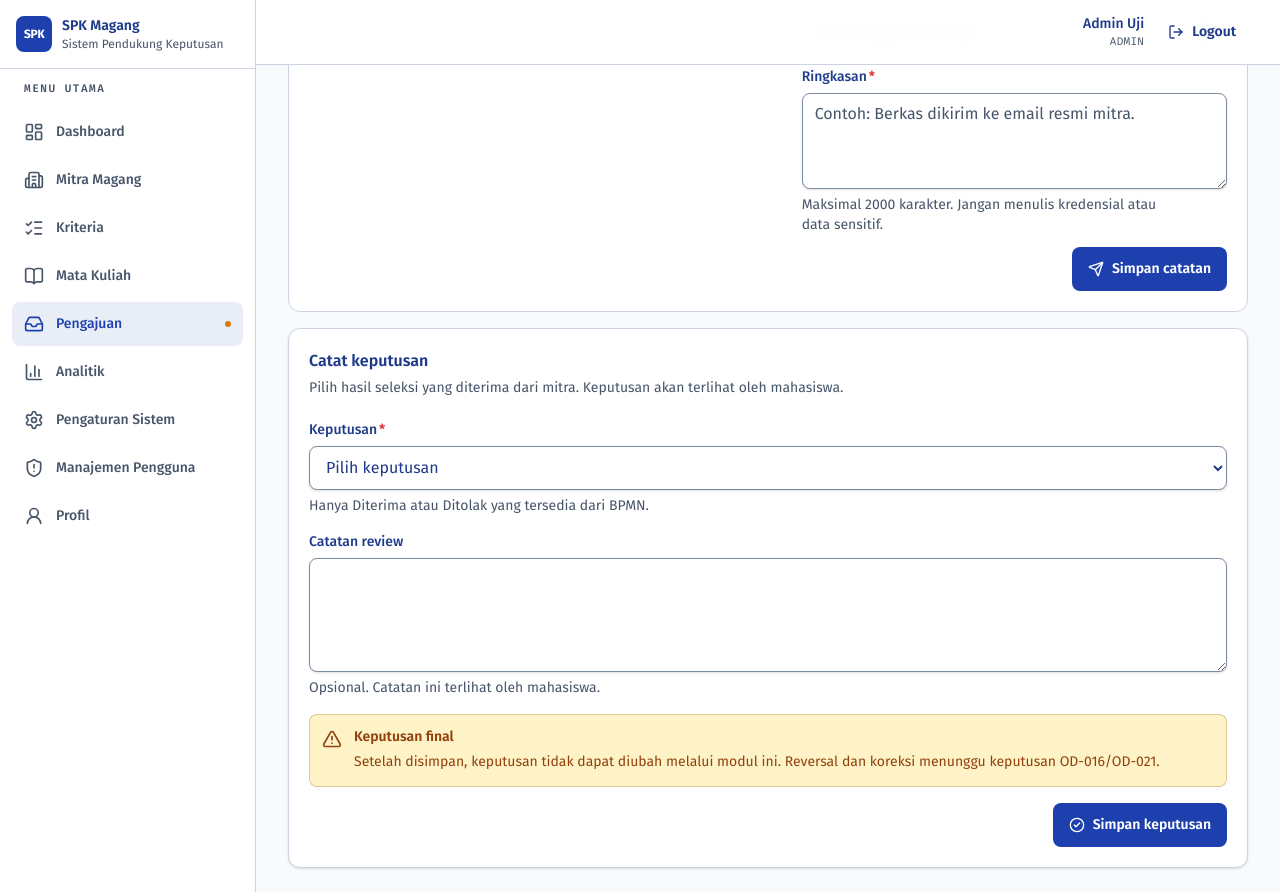
it: AdminApplicationDetailPage › menolak keputusan kosong sebelum memanggil API
(page scrolled)
Expected: the heading "Catat keputusan" is shown, [309,351,428,370]
Click the button "Simpan keputusan": [1140, 824] box [1053,802,1227,846]
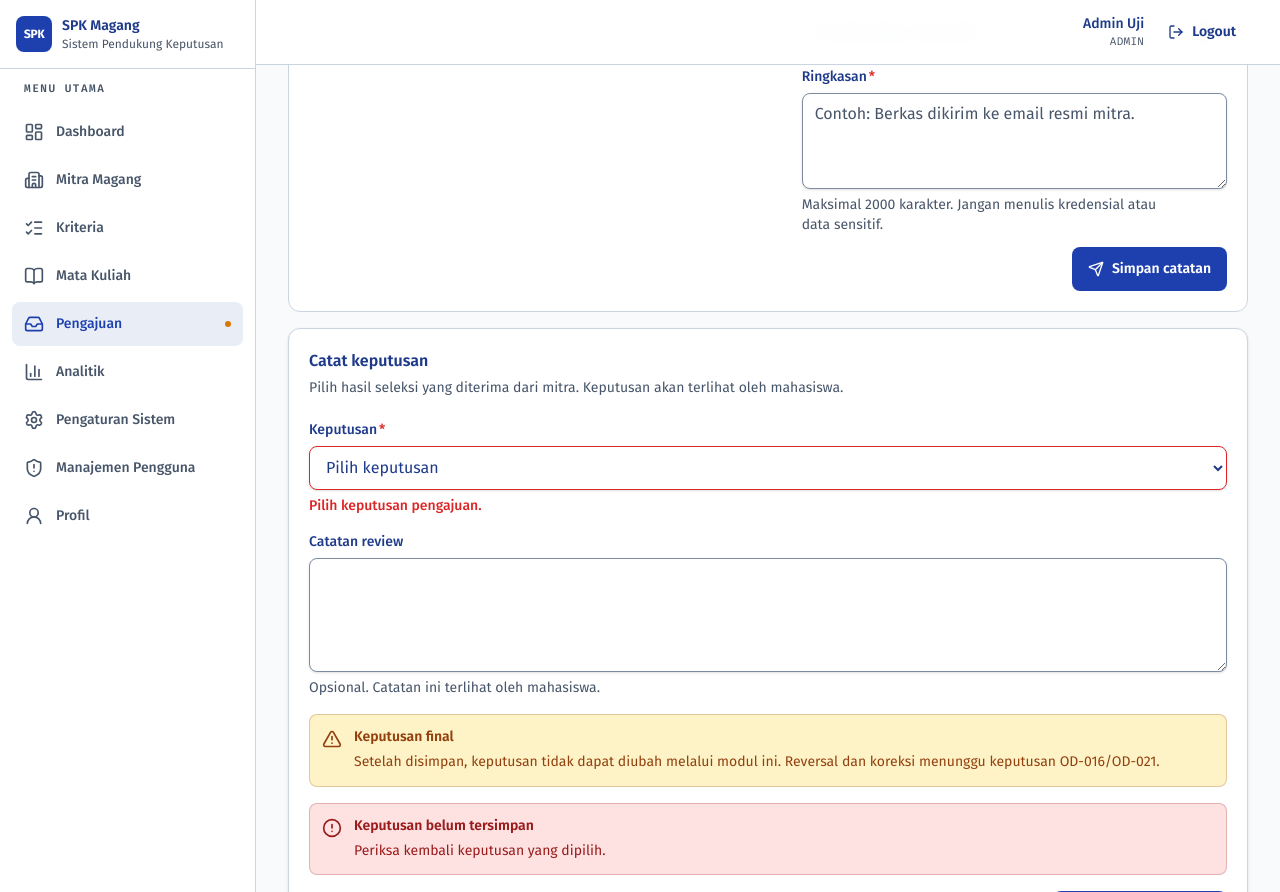
Now the text "Pilih keputusan pengajuan." is shown, box [309,497,482,514]
